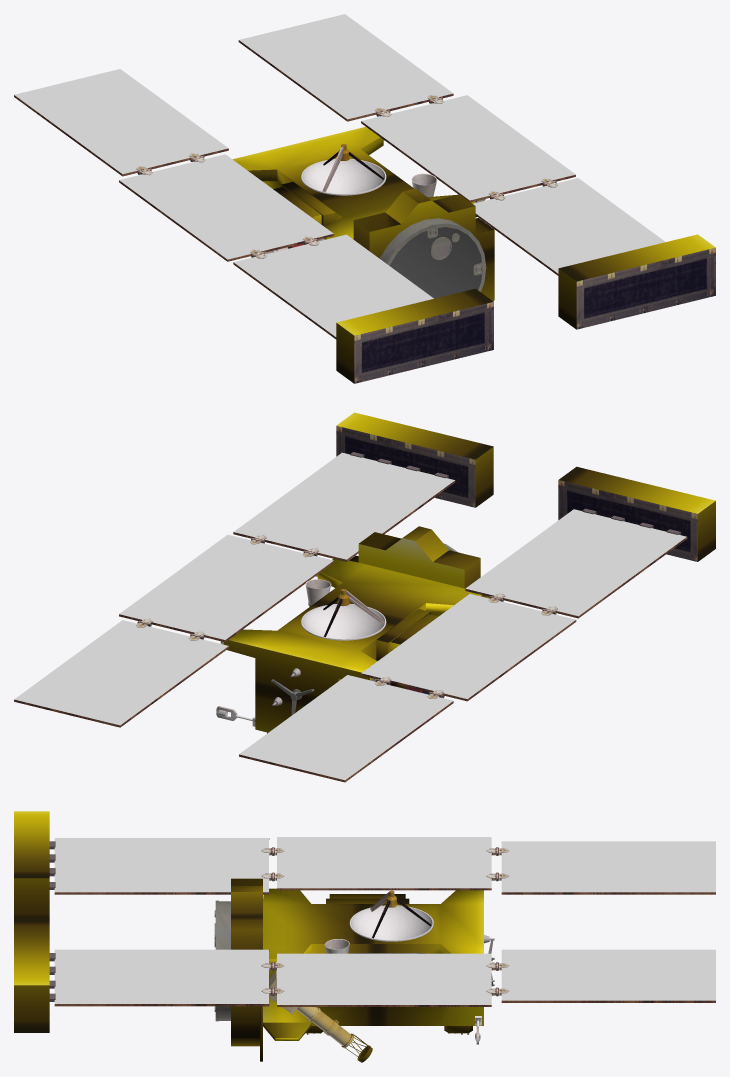
File: Stardust without capsule.glb
3 renders of one model, top to bottom at view 1: azimuth 30°, elevation 25°; view 2: azimuth 150°, elevation 25°; view 3: azimuth 270°, elevation 25°, orthographic.
Parts seen in each view (by area): view 1: shiny_panels, Stardust_tex_01, gold_foil2, gold_foil, foil_silver, Stardust_tex_03, Stardust_tex_02; view 2: shiny_panels, gold_foil, Stardust_tex_01, gold_foil2, Stardust_tex_03, Stardust_tex_02; view 3: shiny_panels, gold_foil, gold_foil2, Stardust_tex_01, Stardust_tex_03, Stardust_tex_02.
Part boxes in pixels (left/top/right/bottom): shiny_panels: left=14, top=14, right=665, bottom=336; Stardust_tex_01: left=14, top=40, right=715, bottom=383; gold_foil2: left=273, top=182, right=715, bottom=383; gold_foil: left=232, top=126, right=494, bottom=301; foil_silver: left=389, top=227, right=481, bottom=298; Stardust_tex_03: left=301, top=144, right=386, bottom=195; Stardust_tex_02: left=288, top=218, right=486, bottom=291; shiny_panels: left=14, top=452, right=686, bottom=780; gold_foil: left=224, top=538, right=481, bottom=732; Stardust_tex_01: left=14, top=426, right=697, bottom=782; gold_foil2: left=267, top=412, right=715, bottom=733; Stardust_tex_03: left=301, top=589, right=386, bottom=640; Stardust_tex_02: left=271, top=543, right=457, bottom=715; shiny_panels: left=54, top=837, right=715, bottom=1004; gold_foil: left=263, top=888, right=483, bottom=1040; gold_foil2: left=14, top=811, right=472, bottom=1062; Stardust_tex_01: left=49, top=838, right=715, bottom=1057; Stardust_tex_03: left=349, top=890, right=433, bottom=941; Stardust_tex_02: left=214, top=900, right=494, bottom=1048.
Size of the model in its own units: 2.94 by 1.17 by 5.01.
Materials: 8 (6 with a texture image).
